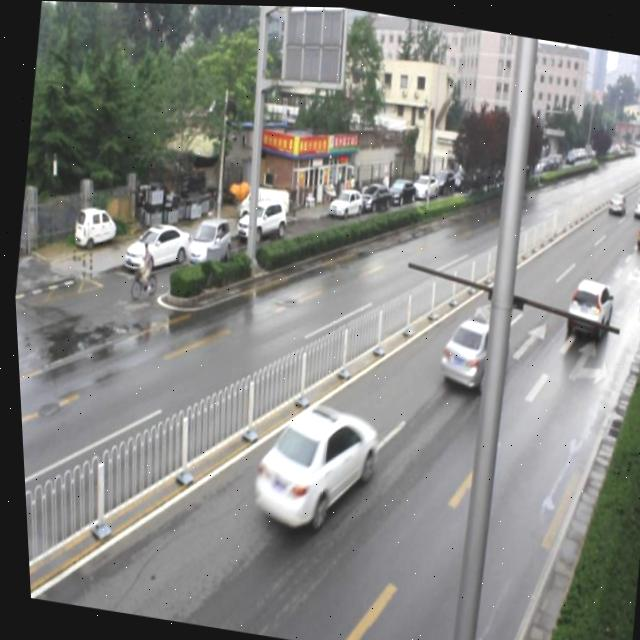car: (241, 398, 378, 543), (430, 312, 511, 396), (558, 274, 610, 339), (630, 213, 640, 248)
